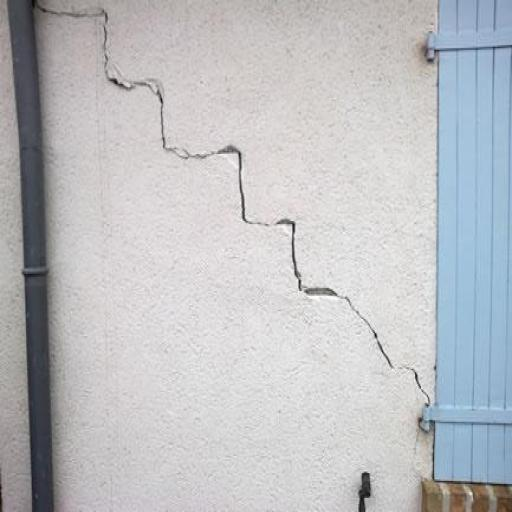spalling: (40, 4, 404, 376)
